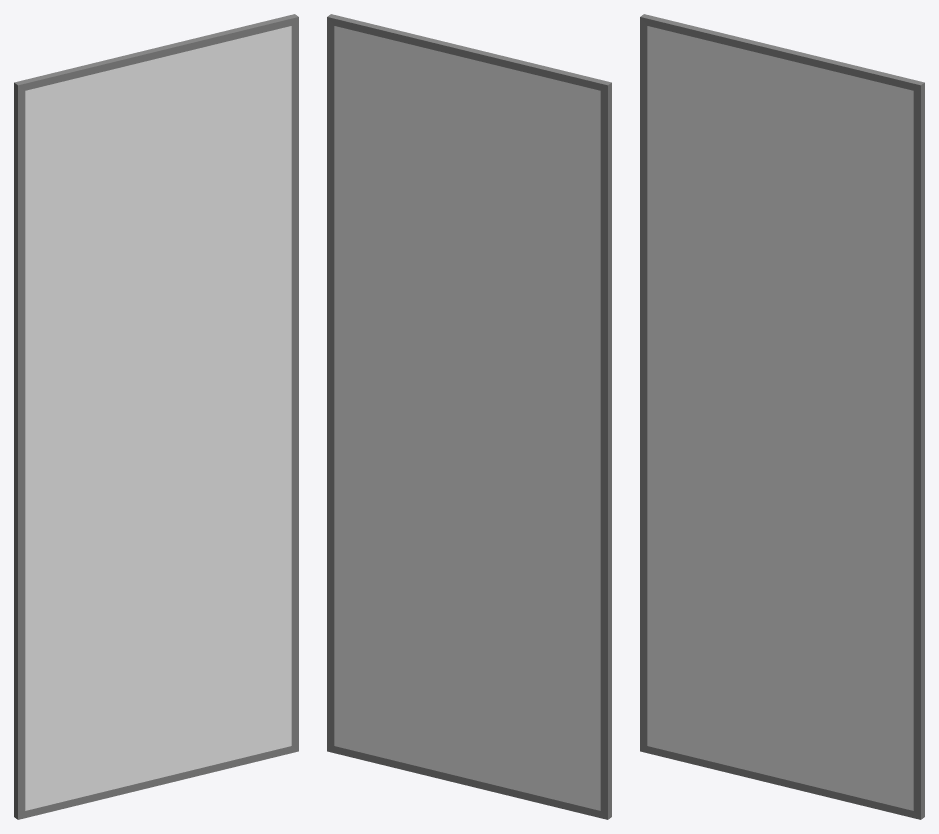
Rendered from broad.fbx.
3 renders of one model, left to right at view 1: azimuth 30°, elevation 25°; view 2: azimuth 150°, elevation 25°; view 3: azimuth 330°, elevation 25°, orthographic.
Parts seen in each view (by area): view 1: Plane.004; view 2: Plane.004; view 3: Plane.004.
Boxes of the visible parts, left/top/right/bottom form: Plane.004: left=14, top=14, right=298, bottom=819; Plane.004: left=327, top=14, right=611, bottom=819; Plane.004: left=640, top=14, right=924, bottom=819.
Size of the model in its own units: 100 by 250 by 2.43.
1 material, 1 textured.
